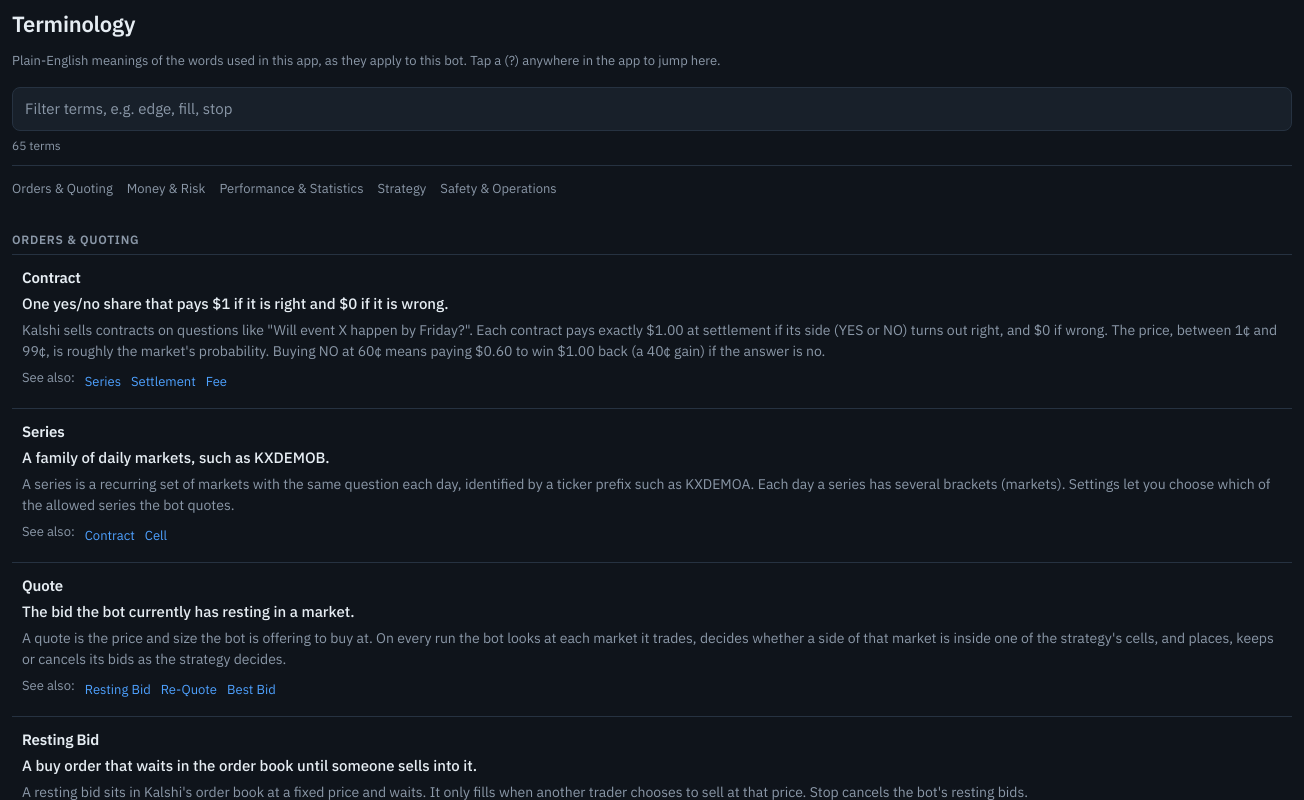
Test: Terminology search UI › folds body-only matches under "Also mentioned in N more terms" and expands on tap
The width and height of the screenshot is (1304, 800).
Step 1. Type "P&L" into the search field labelled "Filter terms" → point(652, 109), box [12,87,1292,131]
(page scrolled)
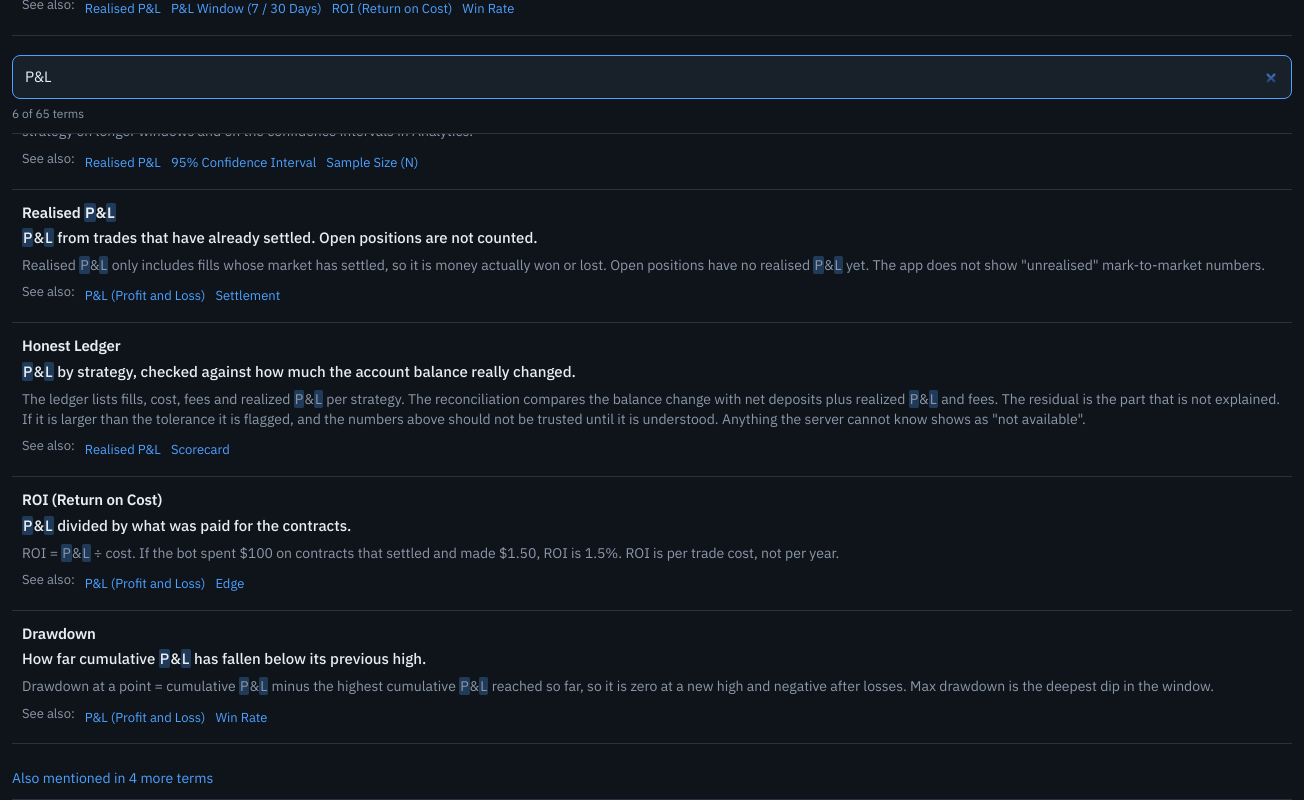
Step 2. Click the button "Also mentioned in 4 more terms" → point(70, 778), box [12,756,1292,799]
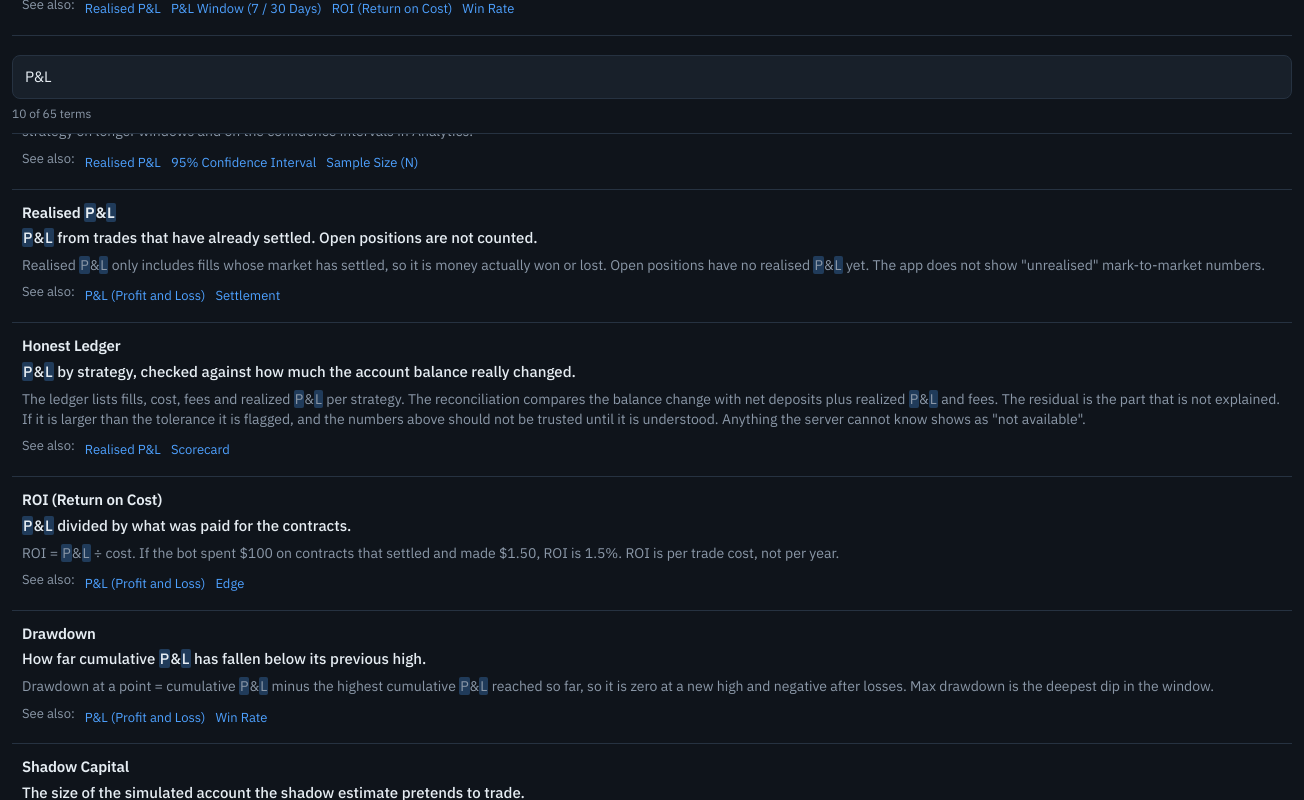
Expected: the button "Also mentioned" is gone
